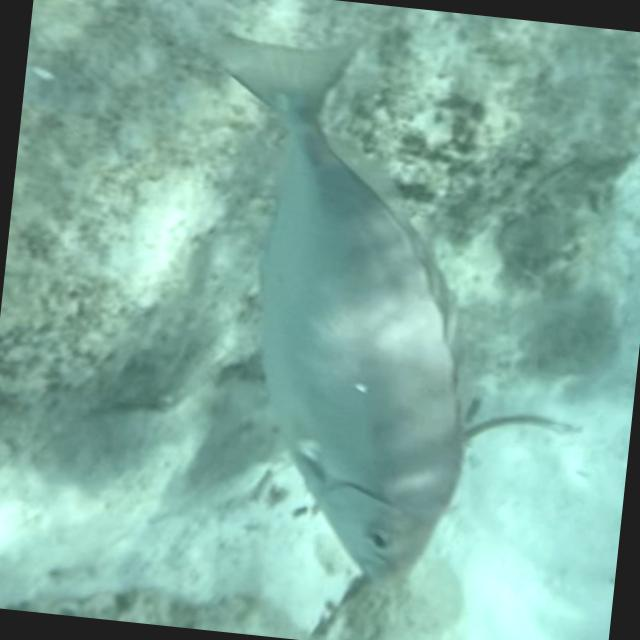Sokar Baligi: (120, 12, 532, 610)
